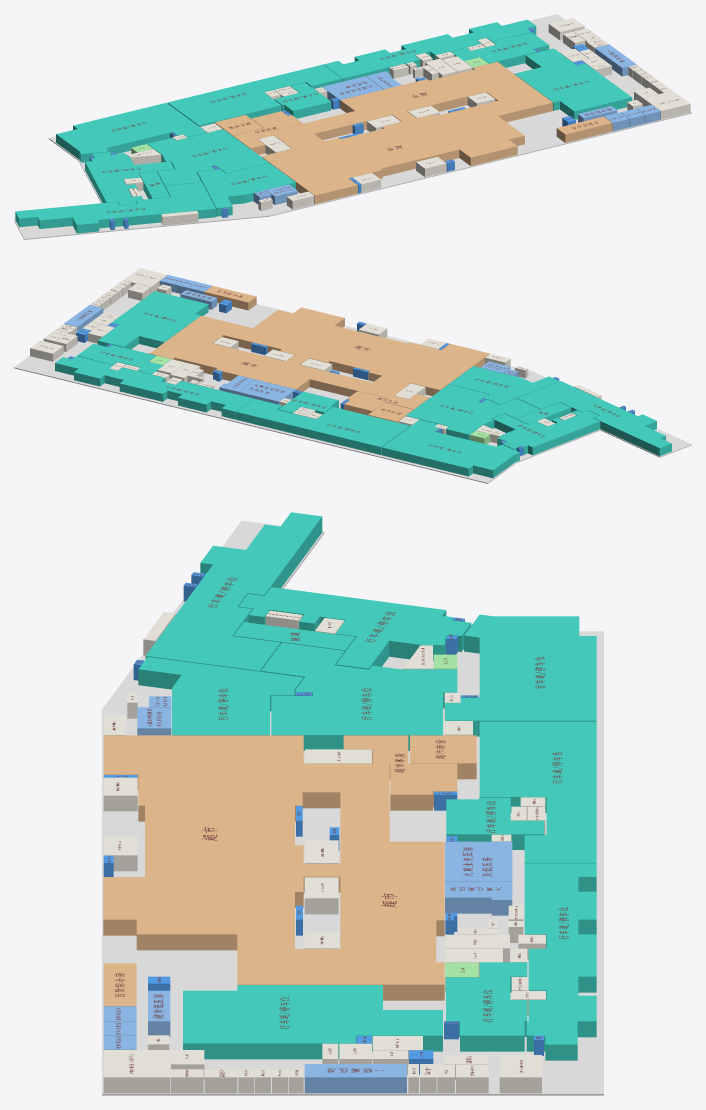
Rendered from 广州万达_-1F.fbx.
3 renders of one model, top to bottom at view 1: azimuth 30°, elevation 25°; view 2: azimuth 150°, elevation 25°; view 3: azimuth 270°, elevation 25°, orthographic. The views are drawn at different scales.
Visible parts, largest first — view 1: 停车位, 超市 (×2), 设备房, 楼板, 电房, 强弱电间, 百货; view 2: 停车位, 超市 (×2), 设备房, 楼板, 电房, 强弱电间, 百货, 卫生间; view 3: 停车位, 超市 (×2), 楼板, 设备房, 电房, 强弱电间, 百货, 卫生间.
Part boxes in pixels (x1,y1,x2,y2): 停车位: (15,19,632,233); 超市 (×2): (214,62,552,203); 设备房: (123,18,690,225); 楼板: (14,14,691,239); 电房: (253,44,660,204); 强弱电间: (89,27,588,230); 百货: (556,116,612,142); 停车位: (55,291,671,477); 超市 (×2): (149,307,489,422); 设备房: (30,268,601,443); 楼板: (14,291,691,483); 电房: (64,275,518,404); 强弱电间: (68,299,634,456); 百货: (204,286,256,310); 卫生间: (149,355,490,444); 停车位: (138,512,596,1060); 超市 (×2): (103,735,476,1000); 楼板: (102,520,603,1095); 设备房: (103,610,545,1093); 电房: (103,696,512,1093); 强弱电间: (103,572,543,1074); 百货: (103,963,136,1006); 卫生间: (433,654,478,992).
Size of the model in its own units: 1111 by 411 by 16.11.
